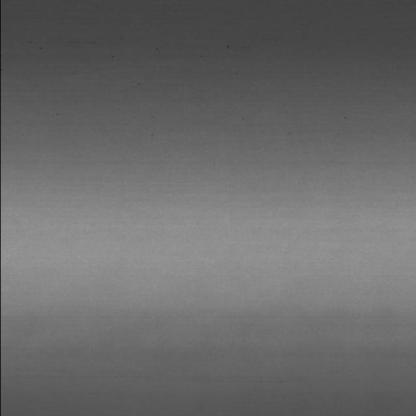inclusion: (211, 38, 244, 58)
